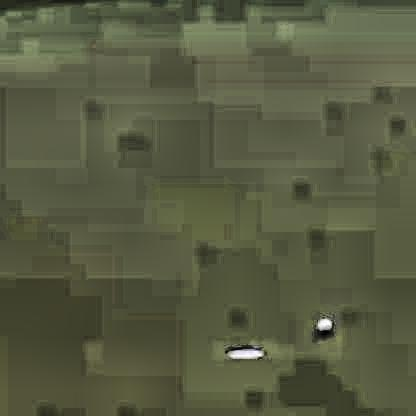golfball: (314, 315, 331, 333)
